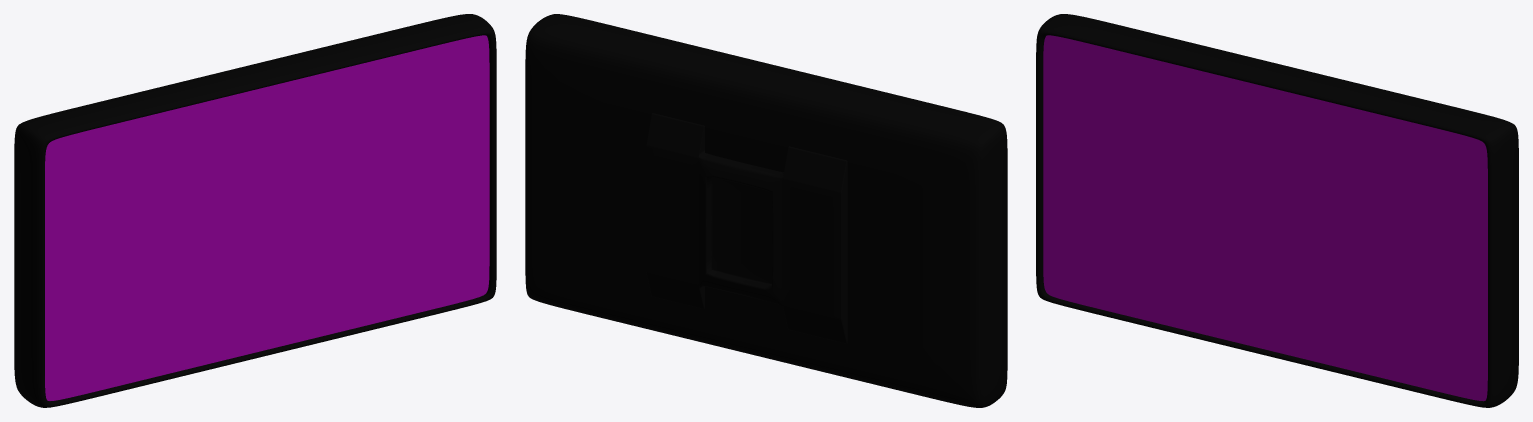
Rendered from SSScreen.fbx.
3 renders of one model, left to right at view 1: azimuth 30°, elevation 25°; view 2: azimuth 150°, elevation 25°; view 3: azimuth 330°, elevation 25°, orthographic.
Visible parts, largest first — view 1: polySurface66; view 2: polySurface66; view 3: polySurface66.
Part boxes in pixels (x1,y1,x2,y2): polySurface66: (14, 14, 496, 407); polySurface66: (525, 14, 1007, 407); polySurface66: (1036, 14, 1518, 407).
Size of the model in its own units: 2.5 by 1.43 by 0.3555.
